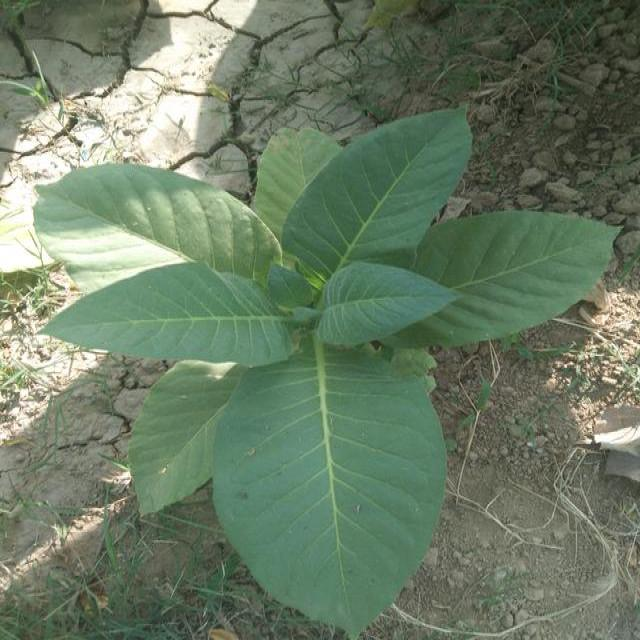crop: (28, 111, 611, 631)
